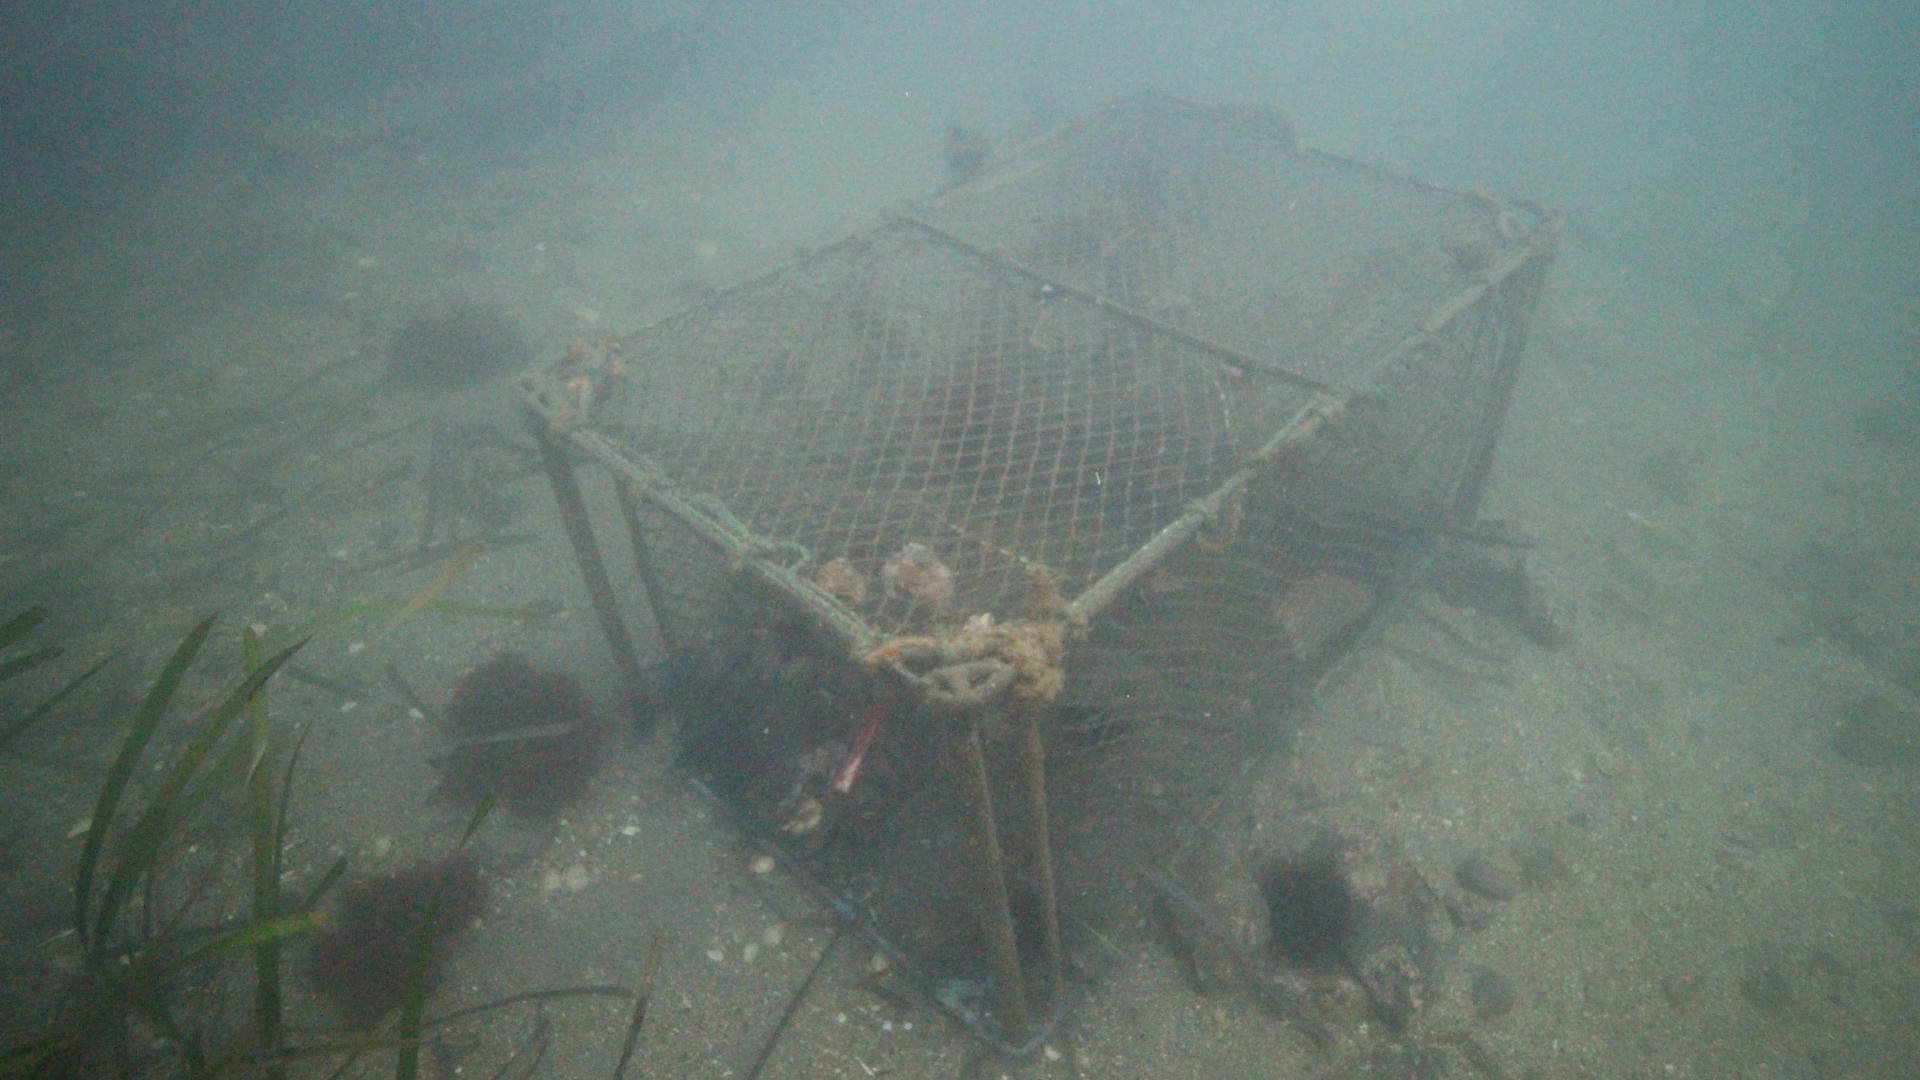rectangular fish trap: (506, 80, 1572, 1060)
